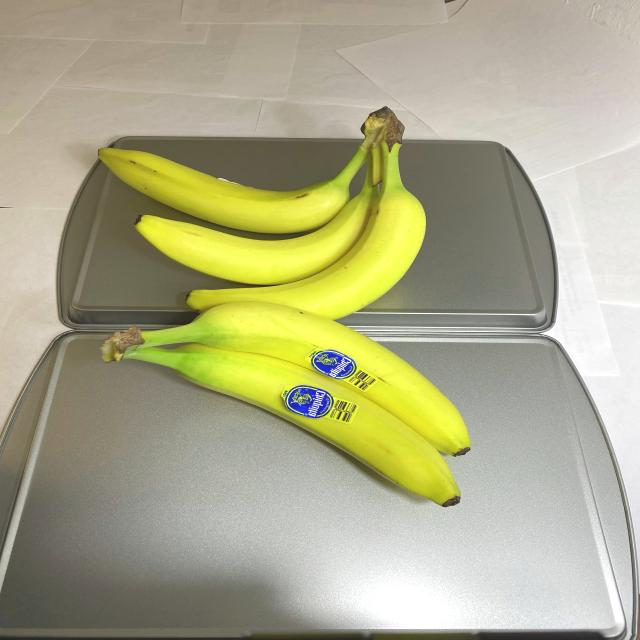banana: (89, 302, 478, 512), (92, 105, 426, 315)
